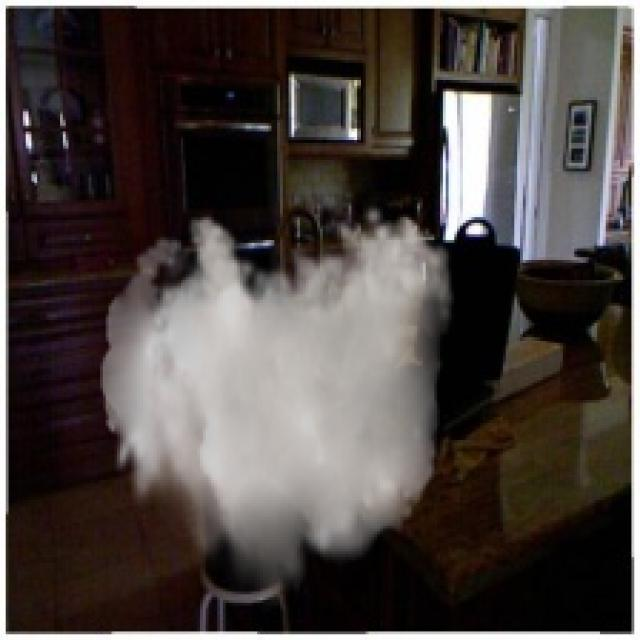Smoke: (100, 200, 454, 614)
